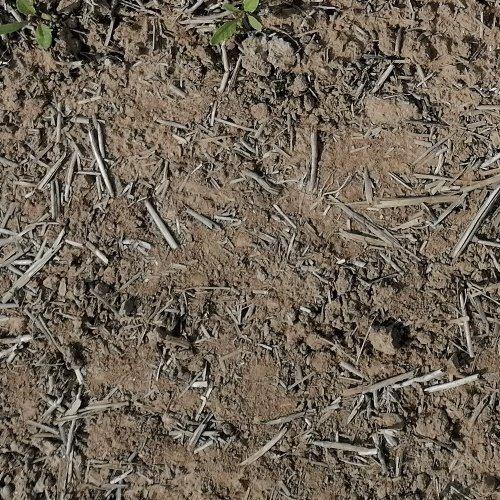beet: (0, 0, 54, 49), (208, 0, 263, 45)
